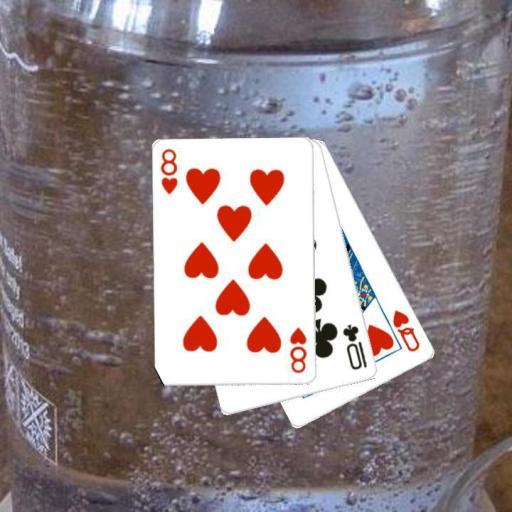10C: (340, 321, 369, 372)
8H: (287, 324, 310, 375), (158, 146, 180, 196)
QH: (390, 307, 422, 354)
